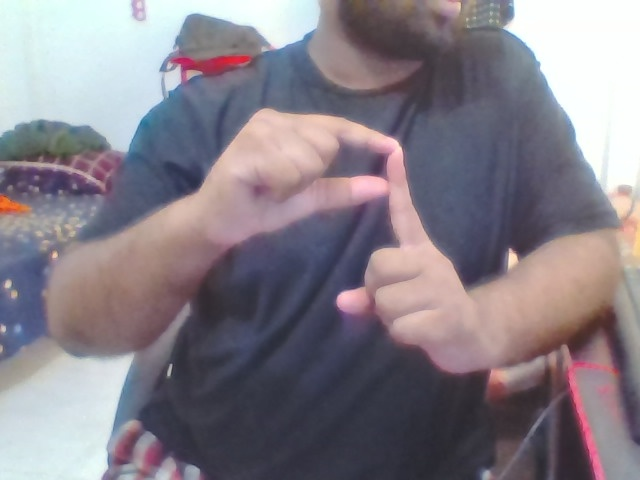P: (199, 91, 493, 396)
